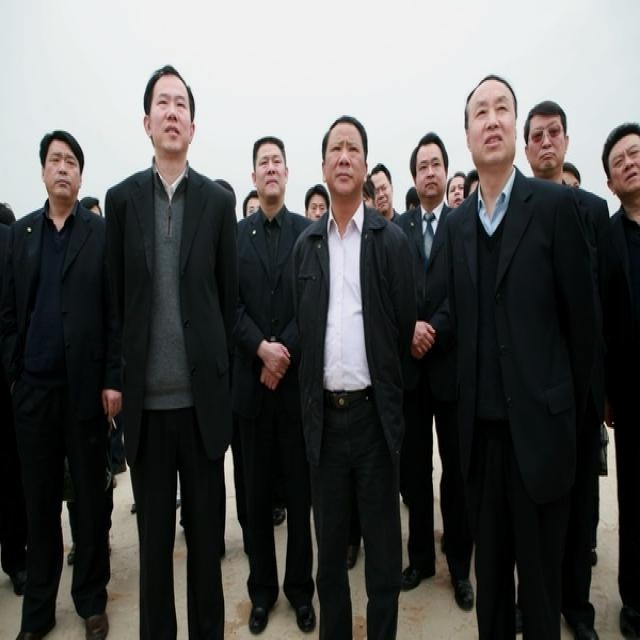Sin_Casco_Mascarrilla: (464, 75, 519, 174), (142, 65, 197, 151), (320, 115, 369, 200)
Sin_Chaleco: (101, 169, 238, 399), (294, 205, 412, 420)
